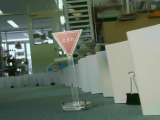stop: (51, 29, 82, 59)
